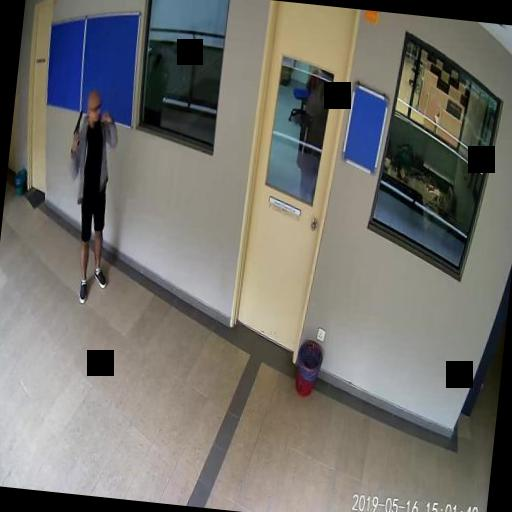Handgun: (71, 109, 81, 142)
